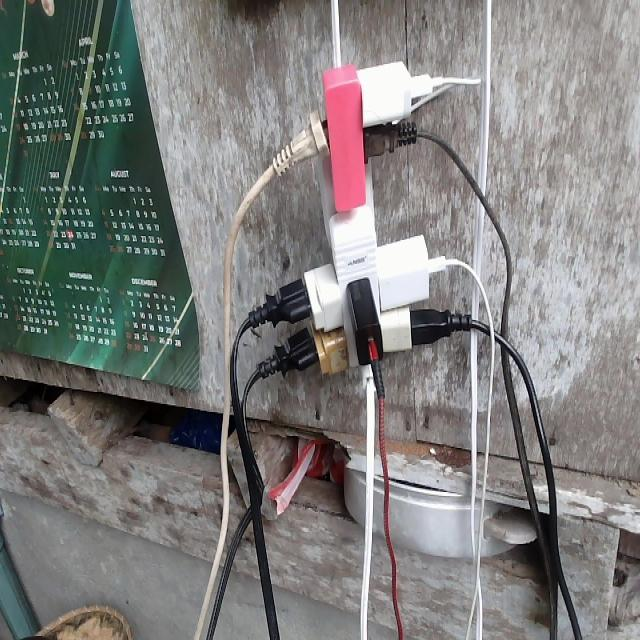-: (223, 56, 518, 403)
